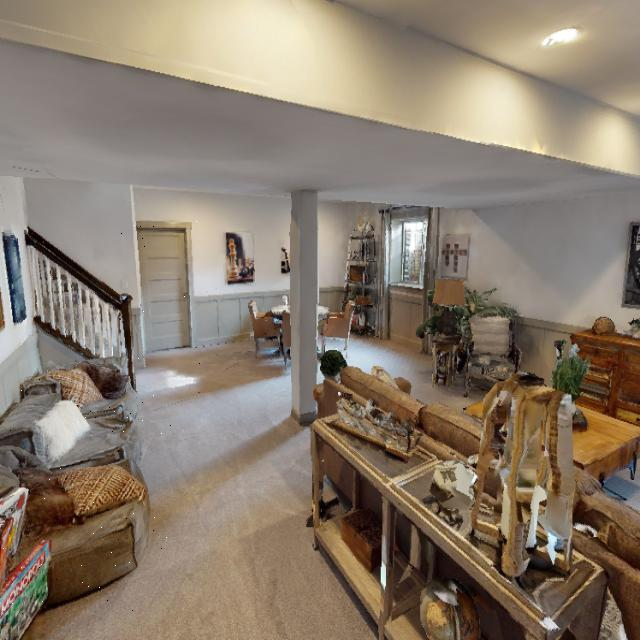chair: (316, 304, 382, 360), (246, 295, 292, 362)
door: (132, 209, 210, 376)
sofa: (0, 367, 175, 616)
stairs: (23, 203, 142, 386)
